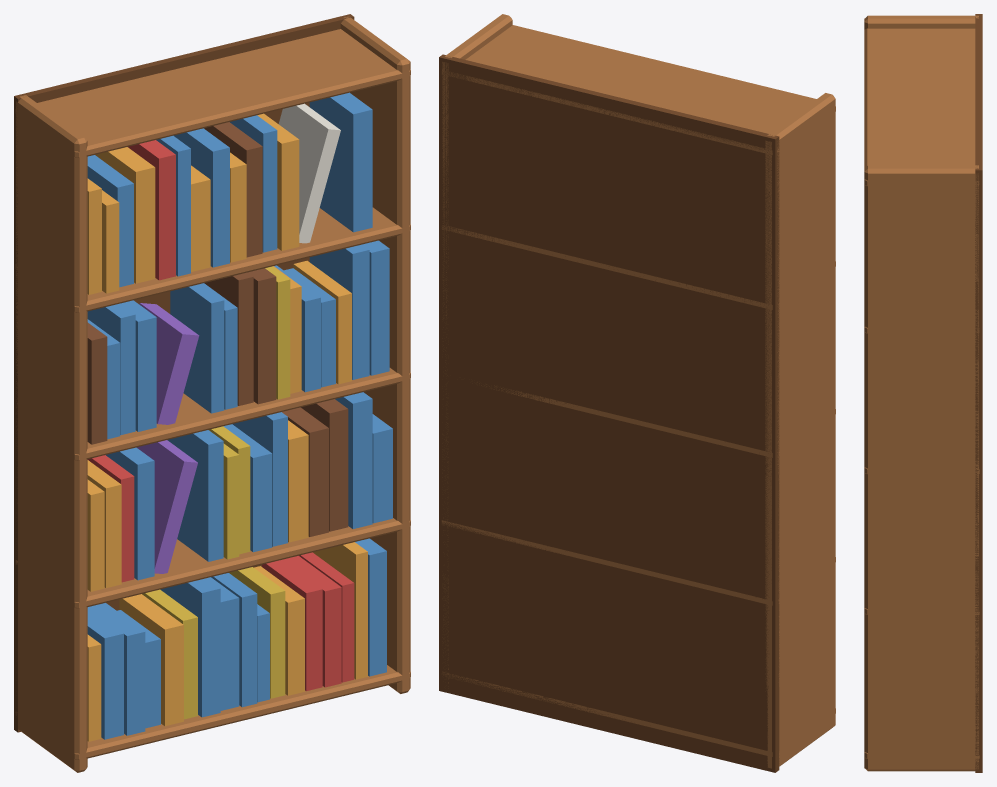
File: home_bookcase_v01.glb
The picture shows the model from 3 angles, left to right: view 1: azimuth 30°, elevation 25°; view 2: azimuth 150°, elevation 25°; view 3: azimuth 270°, elevation 25°; orthographic projection. The views are drawn at different scales.
Parts seen in each view (by area): view 1: bookcase; view 2: bookcase; view 3: bookcase.
Part boxes in pixels (left/top/right/bottom): bookcase: left=14, top=14, right=410, bottom=772; bookcase: left=439, top=14, right=835, bottom=772; bookcase: left=864, top=14, right=982, bottom=772.
Size of the model in its own units: 1 by 1.8 by 0.32.
